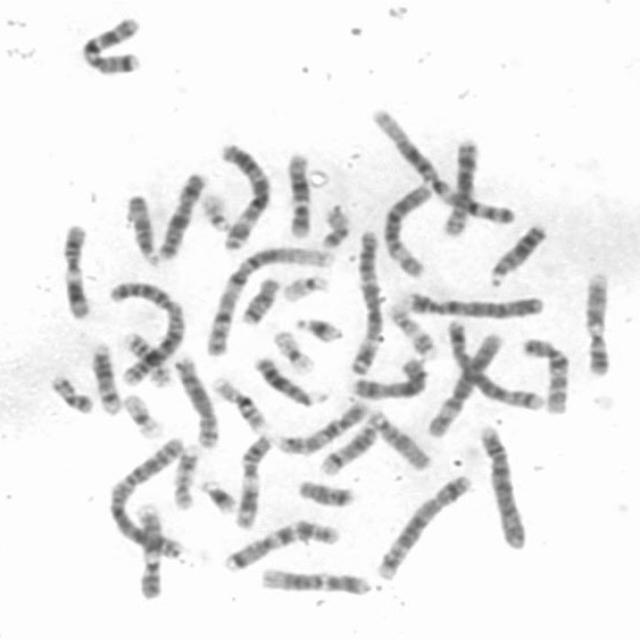A1: (365, 101, 519, 228), (200, 238, 335, 358)
A2: (103, 430, 190, 560), (104, 274, 186, 389)
A3: (214, 136, 274, 252), (344, 224, 386, 376)
B4: (474, 418, 532, 551), (398, 286, 548, 320)
B5: (371, 468, 475, 582), (441, 313, 546, 412)
C10: (273, 395, 373, 457), (515, 331, 572, 417)
C11: (230, 428, 275, 530), (57, 216, 95, 322)
C12: (255, 562, 374, 597), (281, 147, 315, 239)
C6: (419, 326, 507, 440), (378, 177, 438, 279)
C7: (218, 515, 342, 573), (76, 10, 147, 77)
C8: (169, 351, 223, 449), (438, 132, 482, 238)
C9: (579, 265, 615, 378), (130, 496, 166, 601)
D13: (250, 349, 331, 407), (484, 216, 549, 288)
D14: (314, 416, 381, 477), (86, 337, 126, 416)
D15: (362, 403, 436, 472), (120, 187, 162, 267)
E16: (207, 371, 272, 433), (116, 326, 174, 387)
E17: (384, 298, 440, 360), (168, 440, 201, 510)
E18: (237, 271, 283, 326), (292, 474, 358, 508)
F19: (118, 387, 167, 440), (268, 324, 318, 375)
F20: (46, 369, 96, 415), (315, 198, 353, 250)
G21: (290, 310, 345, 344), (197, 474, 240, 514)
G22: (277, 268, 333, 304), (196, 187, 234, 233)
X: (152, 165, 209, 261), (344, 351, 431, 402)
